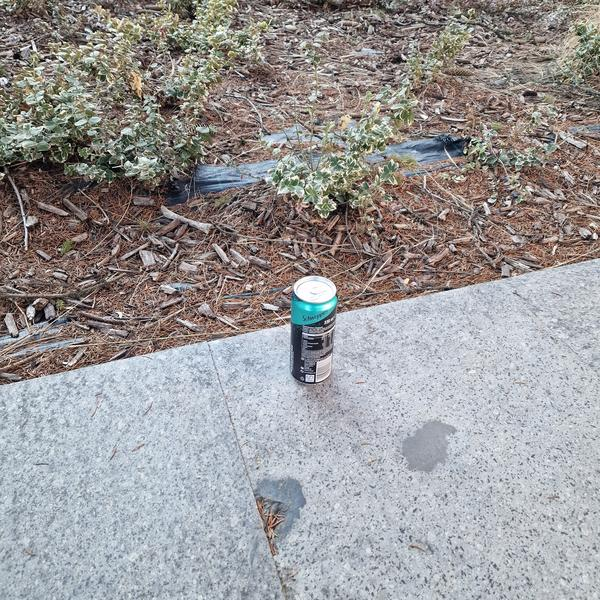can: (291, 275, 338, 385)
